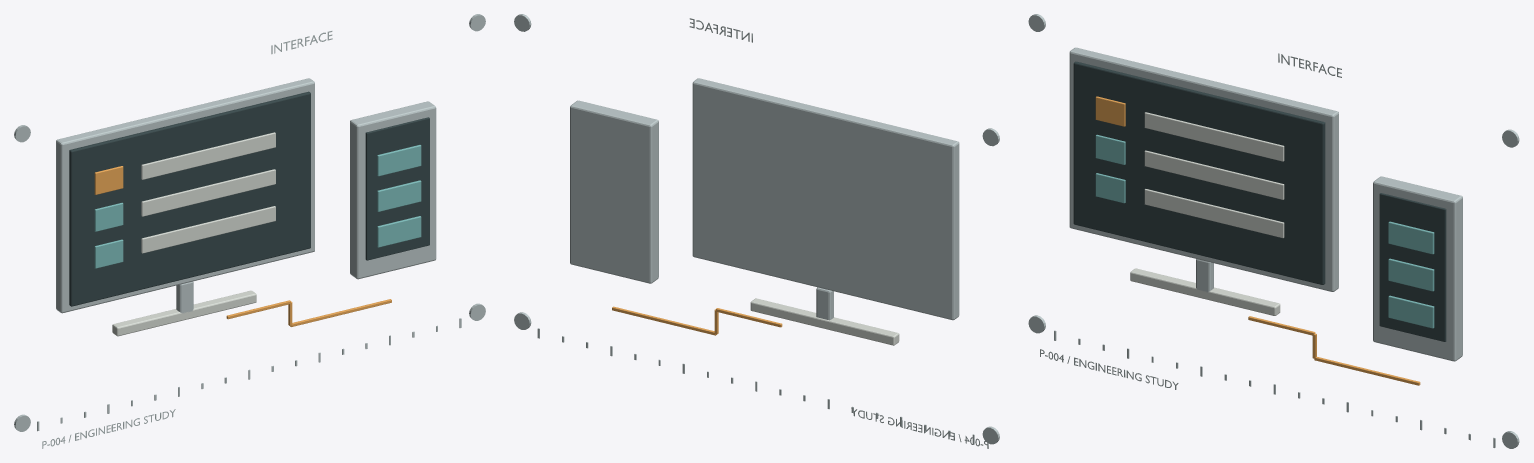
File: frontend.glb
3 views of the same model, side by side, from view 1: azimuth 30°, elevation 25°; view 2: azimuth 150°, elevation 25°; view 3: azimuth 330°, elevation 25° (orthographic). The views are drawn at different scales.
Visible parts, largest first — view 1: optical-core__Project_Graphite.003, optical-core__Project_Silver.002, optical-core__Project_Ceramic.003, optical-core__Project_Trace, optical-lenses__Project_Silver.003, optical-lenses__Project_Amber.001, optical-core__Project_Amber.003; view 2: optical-core__Project_Silver.002, optical-lenses__Project_Silver.003, optical-core__Project_Ceramic.003, optical-lenses__Project_Amber.001; view 3: optical-core__Project_Graphite.003, optical-core__Project_Silver.002, optical-core__Project_Ceramic.003, optical-core__Project_Trace, optical-lenses__Project_Silver.003, optical-lenses__Project_Amber.001, optical-core__Project_Amber.003.
Boxes of the visible parts, <box> form: optical-core__Project_Graphite.003: <box>69,91,429,306</box>; optical-core__Project_Silver.002: <box>56,78,436,313</box>; optical-core__Project_Ceramic.003: <box>112,132,275,336</box>; optical-core__Project_Trace: <box>94,145,421,268</box>; optical-lenses__Project_Silver.003: <box>14,14,485,448</box>; optical-lenses__Project_Amber.001: <box>226,299,391,326</box>; optical-core__Project_Amber.003: <box>94,166,123,194</box>; optical-core__Project_Silver.002: <box>570,78,959,320</box>; optical-lenses__Project_Silver.003: <box>514,14,999,448</box>; optical-core__Project_Ceramic.003: <box>750,298,899,345</box>; optical-lenses__Project_Amber.001: <box>612,306,782,335</box>; optical-core__Project_Graphite.003: <box>1073,61,1446,341</box>; optical-core__Project_Silver.002: <box>1069,47,1462,361</box>; optical-core__Project_Ceramic.003: <box>1130,112,1284,315</box>; optical-core__Project_Trace: <box>1095,134,1434,328</box>; optical-lenses__Project_Silver.003: <box>1028,14,1519,448</box>; optical-lenses__Project_Amber.001: <box>1248,316,1420,385</box>; optical-core__Project_Amber.003: <box>1095,96,1125,126</box>.
Size of the model in its own units: 4.01 by 2.83 by 0.173.
